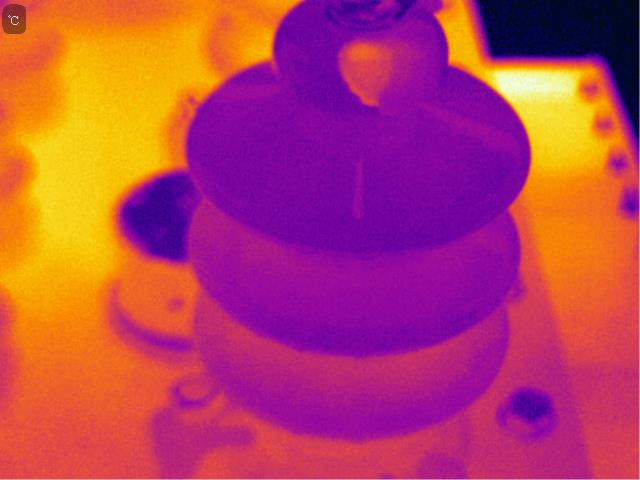Oil: (335, 37, 412, 114), (425, 100, 517, 164), (345, 157, 378, 224), (288, 342, 314, 356), (349, 434, 373, 447)
